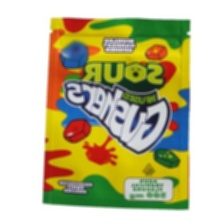snack: (33, 6, 200, 215)
